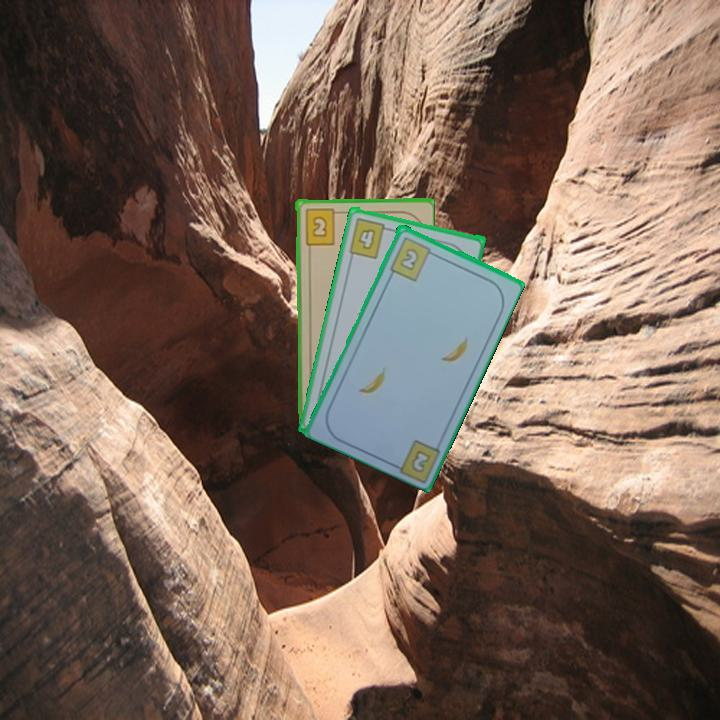2b: (386, 233, 438, 284), (301, 205, 343, 247), (408, 446, 433, 475)
4b: (345, 214, 395, 261)
